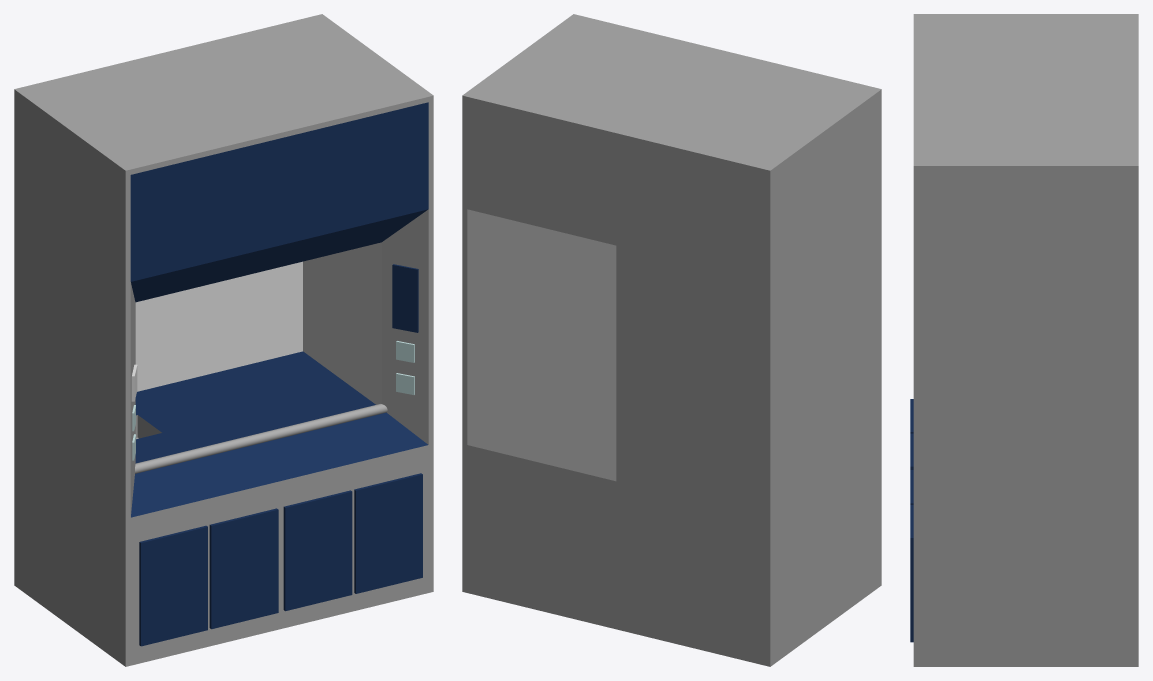
File: 通风橱.fbx
The picture shows the model from 3 angles, left to right: view 1: azimuth 30°, elevation 25°; view 2: azimuth 150°, elevation 25°; view 3: azimuth 270°, elevation 25°; orthographic projection.
Visible parts, largest first — view 1: polySurface9, polySurface8, polySurface14, polySurface10, polySurface13, polySurface12, polySurface5; view 2: polySurface9; view 3: polySurface9, polySurface13.
Part boxes in pixels (x1,y1,x2,y2): polySurface9: (14,14,433,666); polySurface8: (283,490,352,611); polySurface14: (209,508,278,629); polySurface10: (139,525,207,646); polySurface13: (354,473,422,593); polySurface12: (135,404,387,473); polySurface5: (392,264,418,332); polySurface9: (462,14,881,666); polySurface9: (913,14,1138,666); polySurface13: (910,505,913,642).
Bounding box in the file's own units: 17.93 × 27.59 × 11.4.
